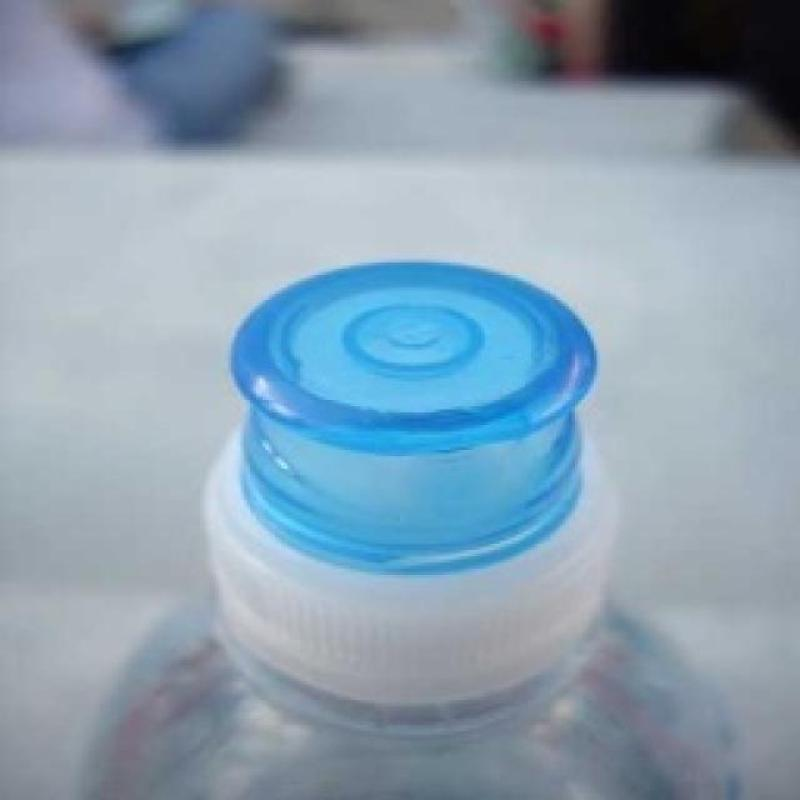botella: (81, 259, 740, 800)
